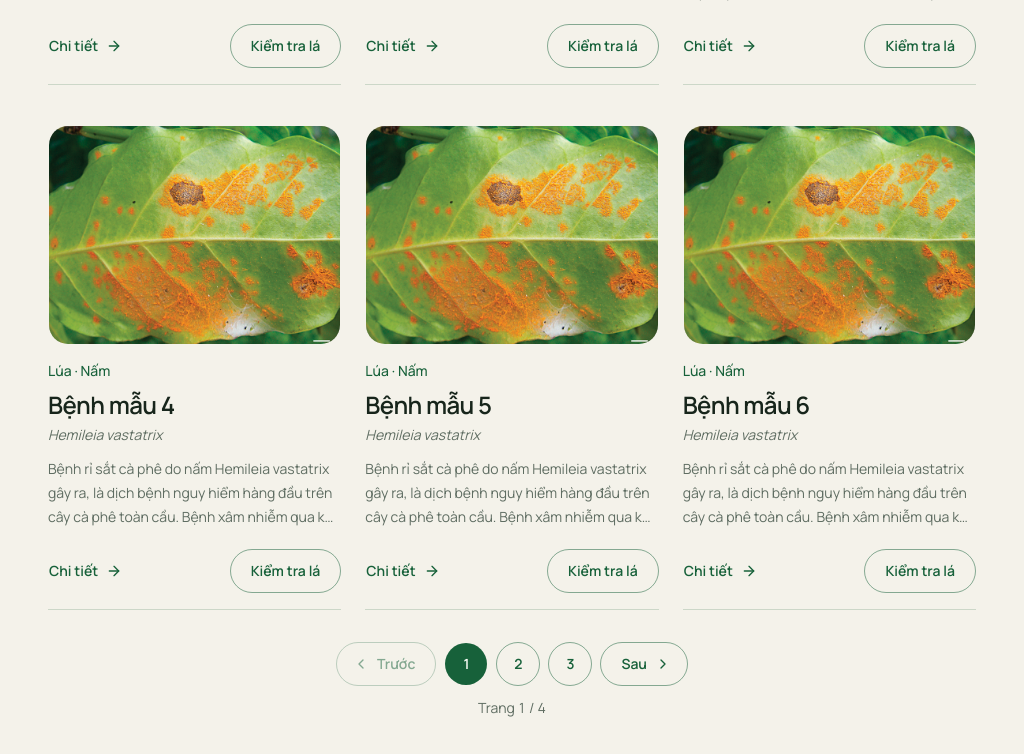
it: catalog pagination › searches the full disease list and resets paging when the query changes
(page scrolled)
Click the button named "Trang 3" at (570, 664), box [548,642,592,686]
(page scrolled)
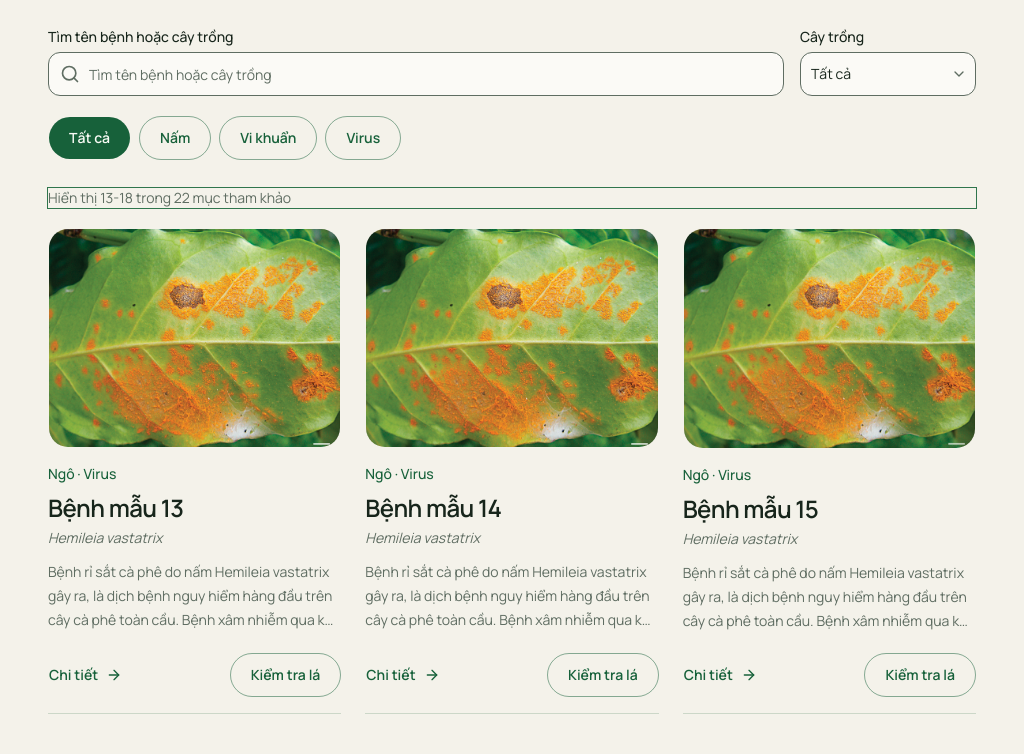
Type "Bệnh mẫu 22" into the search field at (416, 74), box [48,52,784,96]
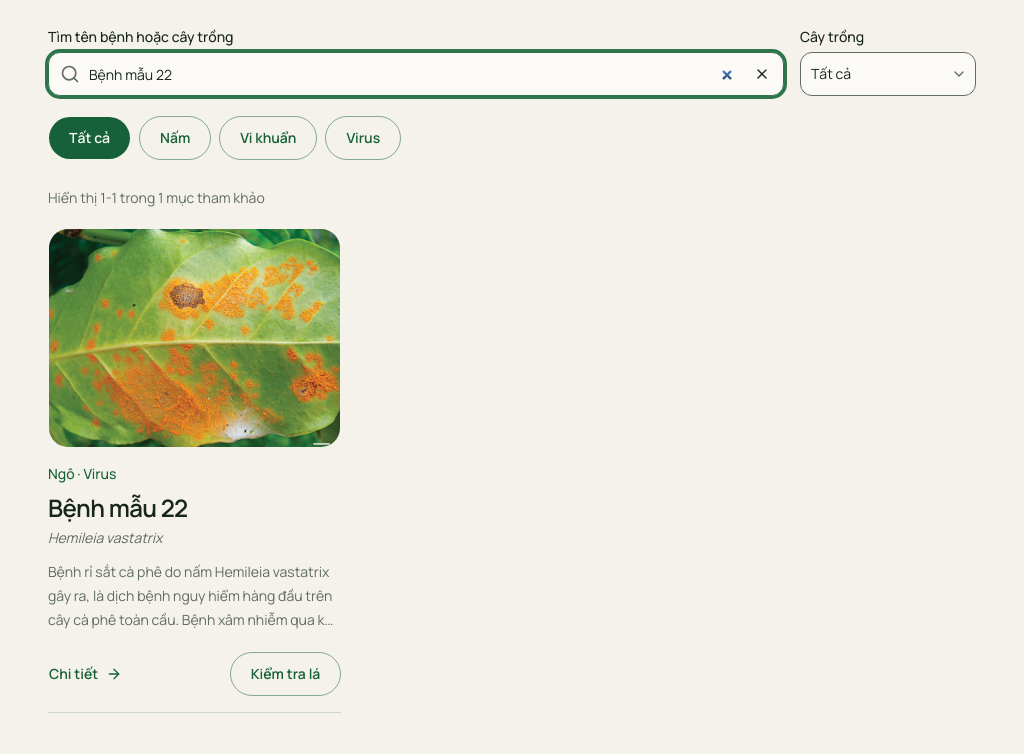
expect the heading "Bệnh mẫu 22" is shown: met, box [48,492,188,524]
Clear the search field at (416, 74), box [48,52,784,96]
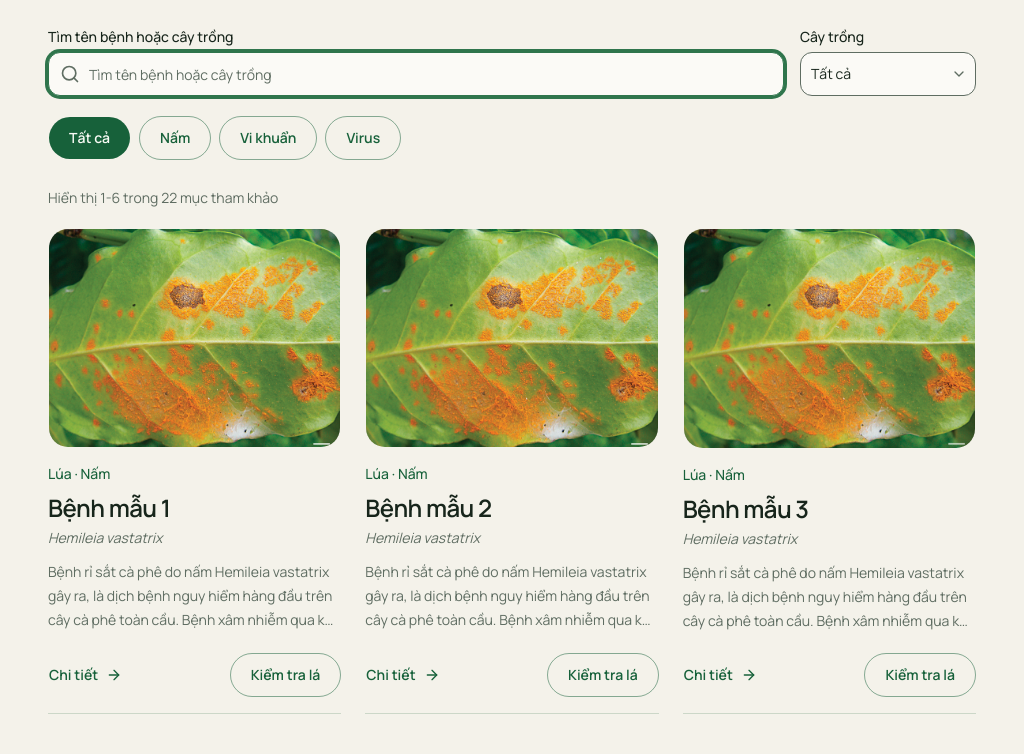
expect the heading "Bệnh mẫu 1" is shown: met, box [48,492,170,524]
